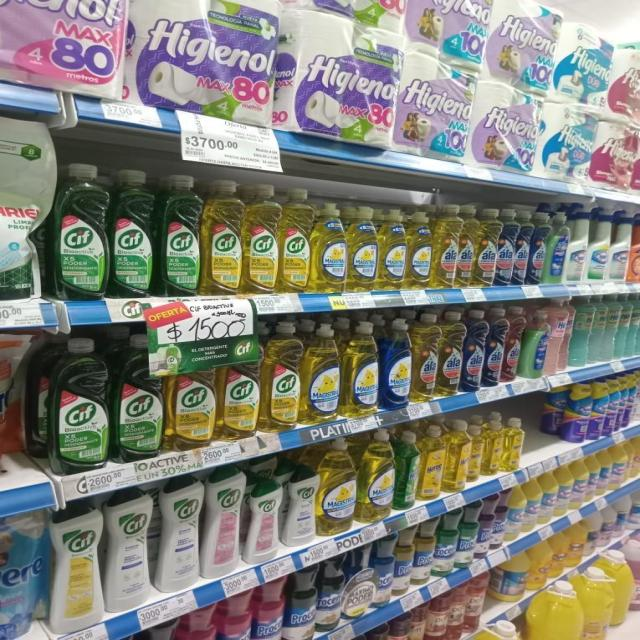ala_conc_amarillo: (412, 313, 438, 402), (433, 204, 457, 289), (439, 310, 462, 397), (457, 204, 476, 288), (476, 206, 495, 287)
ala_conc_azul: (463, 308, 485, 392), (496, 207, 514, 287), (486, 307, 504, 387), (529, 211, 546, 285), (514, 210, 529, 286)
ala_conc_rojo: (505, 305, 522, 384)
cif_conc_bot_amarilla: (202, 179, 242, 296), (262, 319, 300, 431), (169, 366, 216, 449), (244, 183, 278, 294), (280, 185, 312, 294), (219, 357, 260, 439)
cif_conc_botella_verde: (49, 337, 110, 472), (52, 162, 108, 300), (112, 332, 164, 460), (110, 168, 156, 298), (159, 173, 201, 296)
magistral_con_amarillo: (302, 323, 341, 424), (318, 437, 356, 536), (343, 320, 379, 418), (312, 201, 346, 293), (360, 429, 394, 520), (348, 204, 378, 292), (379, 207, 407, 291), (408, 208, 432, 289)
magistral_con_azul: (381, 318, 411, 409)
